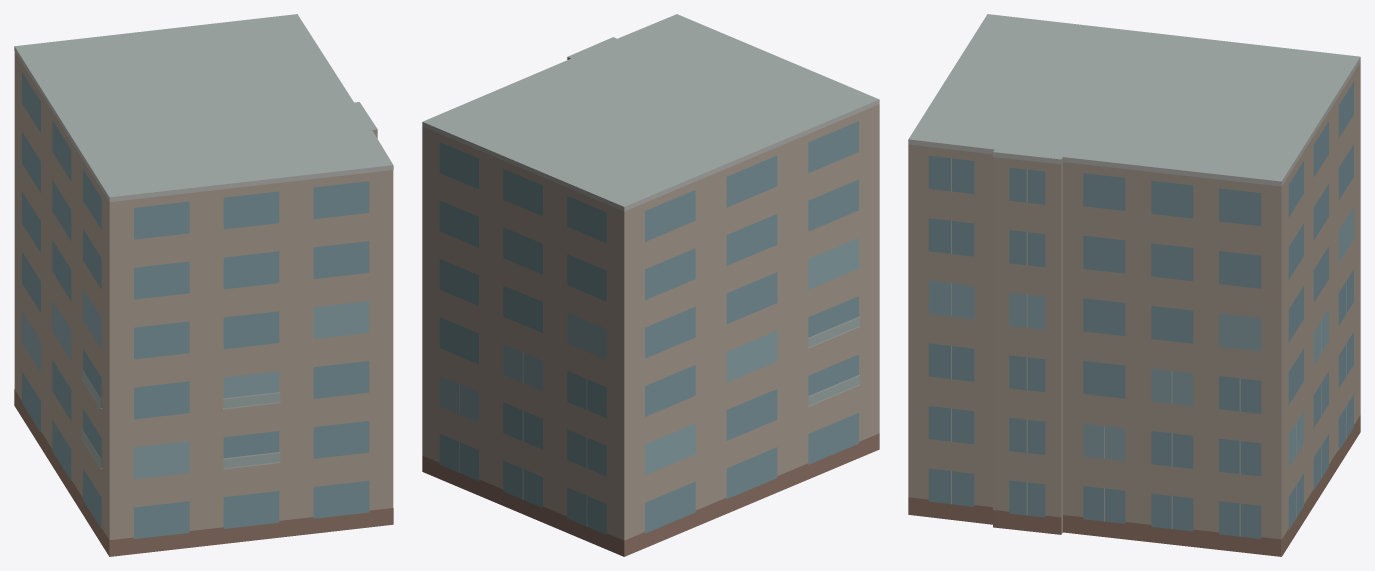
Rendered from survey-upis-32934355.glb.
3 renders of one model, left to right at view 1: azimuth 30°, elevation 25°; view 2: azimuth 150°, elevation 25°; view 3: azimuth 270°, elevation 25°, orthographic. The views are drawn at different scales.
Parts seen in each view (by area): view 1: survey-upis-32934355.tmp; view 2: survey-upis-32934355.tmp; view 3: survey-upis-32934355.tmp.
Boxes of the visible parts, <box> form: survey-upis-32934355.tmp: <box>14,14,393,556</box>; survey-upis-32934355.tmp: <box>422,14,879,556</box>; survey-upis-32934355.tmp: <box>908,14,1360,556</box>.
Bounding box in the file's own units: 17.62 × 18.4 × 20.11.
